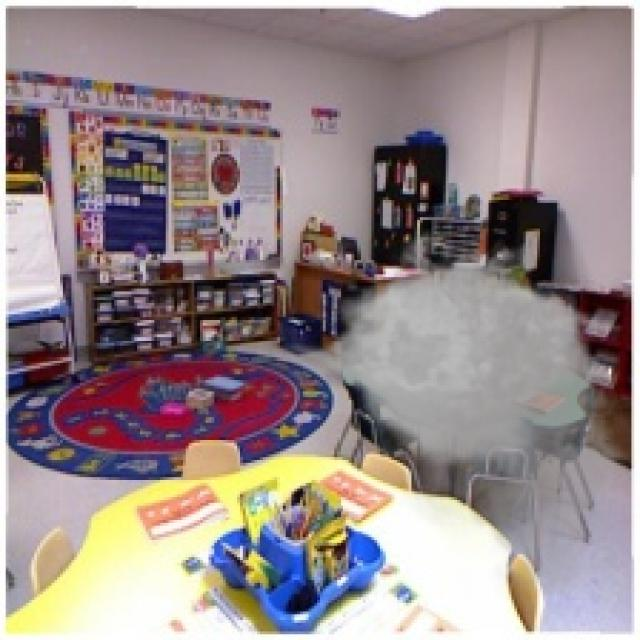smoke: (277, 217, 637, 603)
